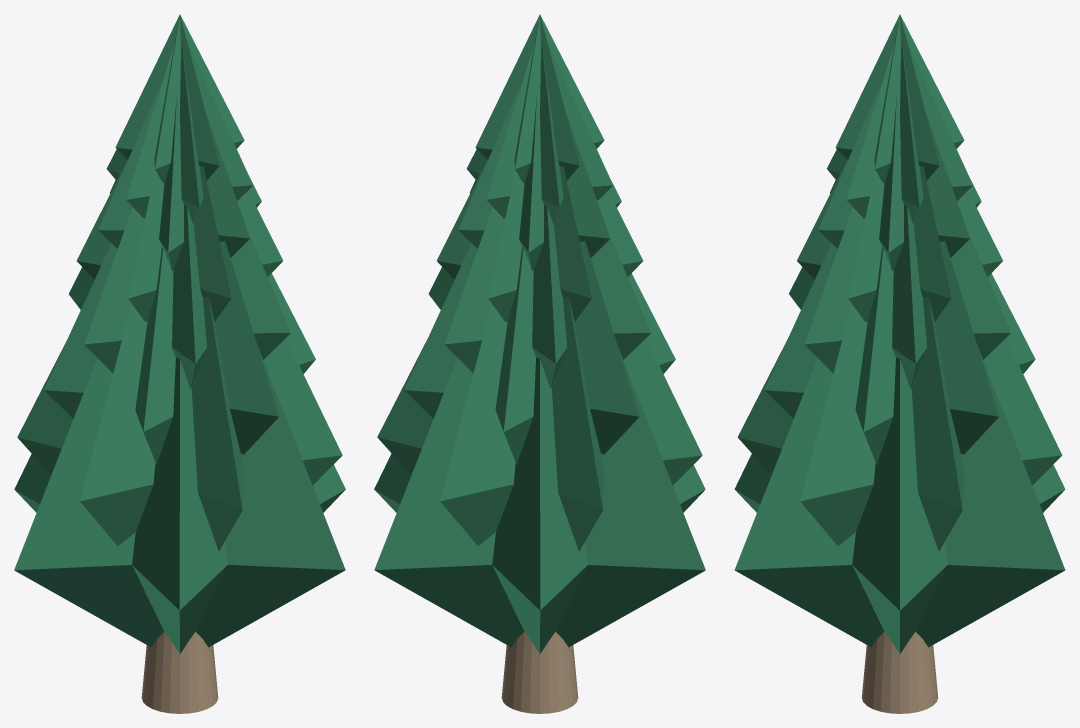
Rendered from tree.glb.
3 views of the same model, side by side, from view 1: azimuth 30°, elevation 25°; view 2: azimuth 150°, elevation 25°; view 3: azimuth 270°, elevation 25° (orthographic).
Parts seen in each view (by area): view 1: Mesh_Mesh_head_geo.001_lambert2SG.001; view 2: Mesh_Mesh_head_geo.001_lambert2SG.001; view 3: Mesh_Mesh_head_geo.001_lambert2SG.001.
Part boxes in pixels (<box>): Mesh_Mesh_head_geo.001_lambert2SG.001: <box>14,14,345,713</box>; Mesh_Mesh_head_geo.001_lambert2SG.001: <box>374,14,705,713</box>; Mesh_Mesh_head_geo.001_lambert2SG.001: <box>734,14,1065,713</box>.
Size of the model in its own units: 0.032 by 0.063 by 0.0276.
